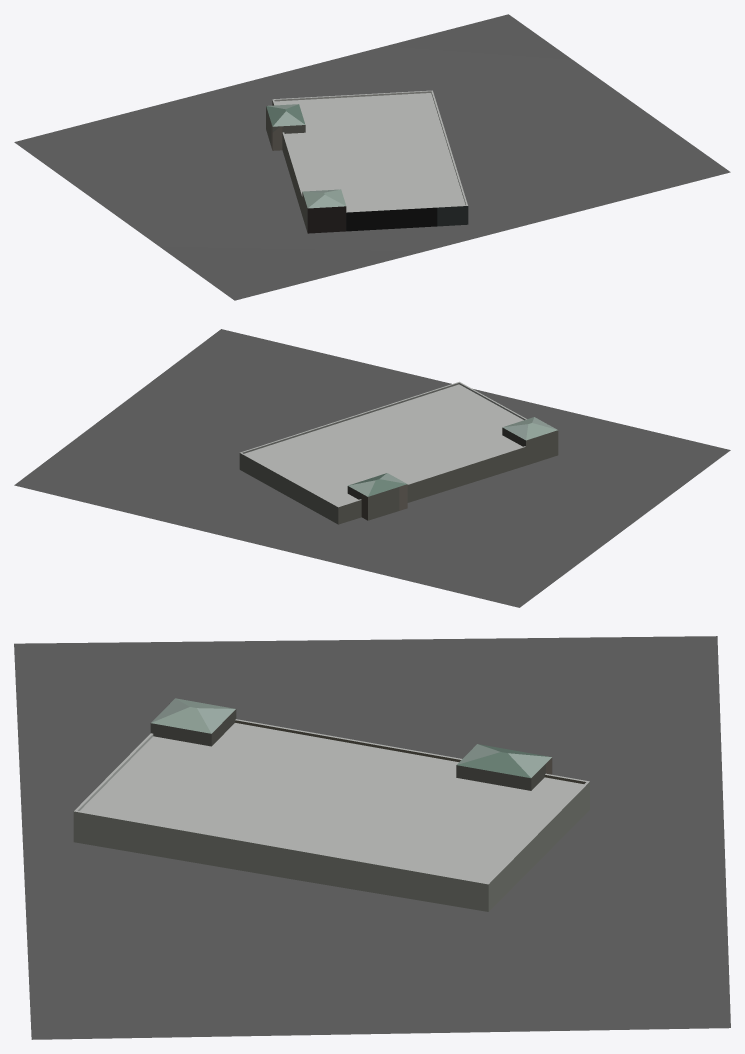
The model's file is tennessee-valley-public-power-association.glb.
The picture shows the model from 3 angles, top to bottom: view 1: azimuth 30°, elevation 25°; view 2: azimuth 150°, elevation 25°; view 3: azimuth 270°, elevation 25°; orthographic projection. The views are drawn at different scales.
Parts seen in each view (by area): view 1: LOD0; view 2: LOD0; view 3: LOD0.
Boxes of the visible parts, x1,y1,x2,y2 form: LOD0: (14,14,730,300); LOD0: (14,329,730,607); LOD0: (14,636,730,1039).
Size of what is drawn, in the model's own units: 154 by 9.12 by 115.
Materials: 1 (1 with a texture image).
